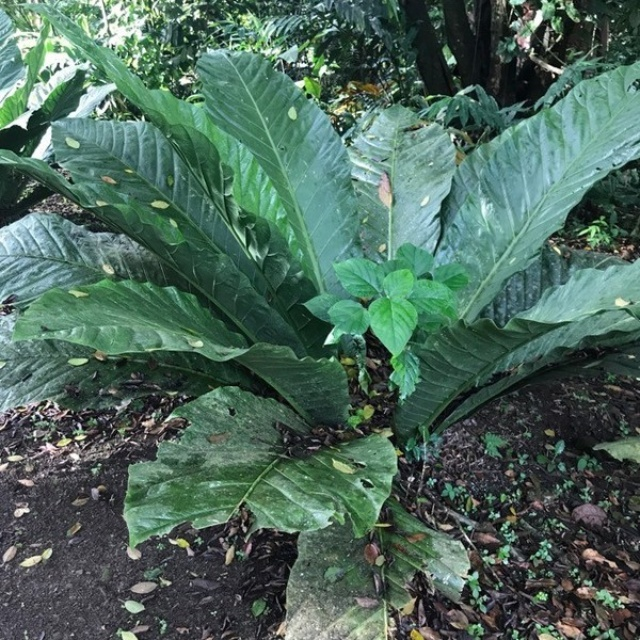obstacle: (37, 31, 590, 492)
